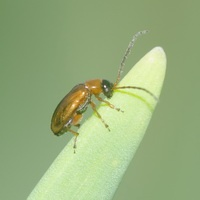insect: (51, 30, 147, 152)
